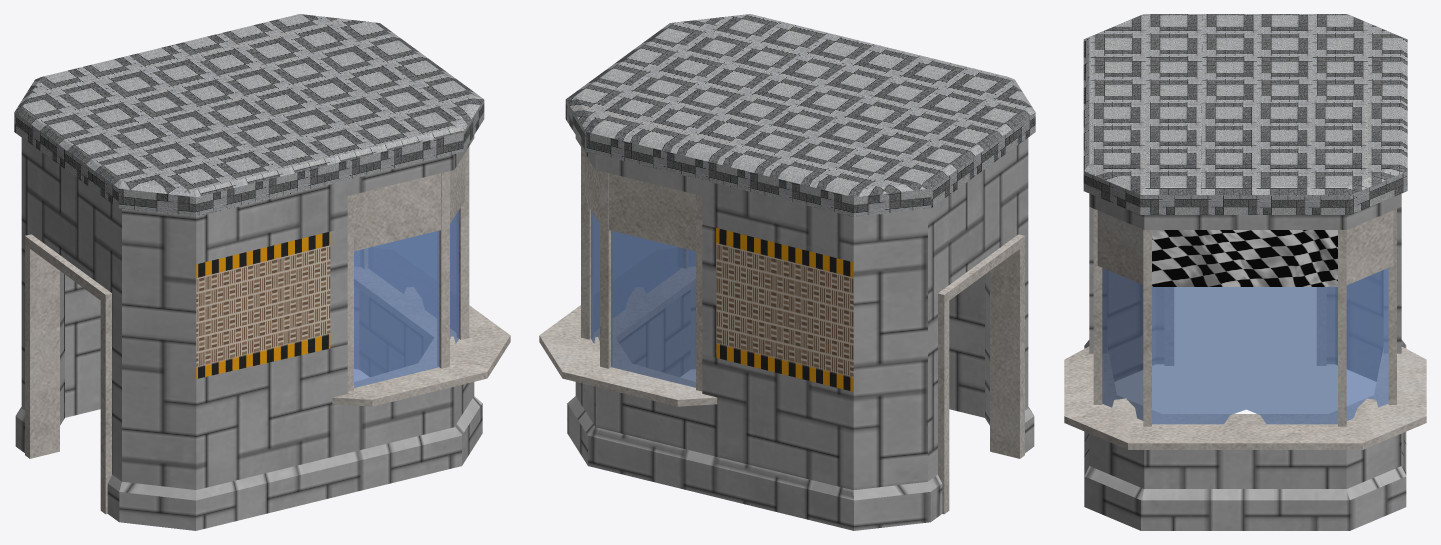
3 views of the same model, side by side, from view 1: azimuth 30°, elevation 25°; view 2: azimuth 150°, elevation 25°; view 3: azimuth 270°, elevation 25° (orthographic).
Visible parts, largest first — view 1: TicketBooth_0, TicketBooth_3, TicketBooth_2, TicketBooth_1; view 2: TicketBooth_0, TicketBooth_3, TicketBooth_2, TicketBooth_1; view 3: TicketBooth_3, TicketBooth_0, TicketBooth_2, TicketBooth_1.
Boxes of the visible parts, <box> form: TicketBooth_0: <box>15,135,482,530</box>; TicketBooth_3: <box>14,14,484,216</box>; TicketBooth_2: <box>25,146,510,514</box>; TicketBooth_1: <box>354,210,459,387</box>; TicketBooth_0: <box>567,135,1034,530</box>; TicketBooth_3: <box>565,14,1035,216</box>; TicketBooth_2: <box>539,147,1024,514</box>; TicketBooth_1: <box>591,210,695,387</box>; TicketBooth_3: <box>1083,14,1407,214</box>; TicketBooth_0: <box>1084,193,1406,530</box>; TicketBooth_2: <box>1064,209,1426,449</box>; TicketBooth_1: <box>1102,268,1388,424</box>.
Size of the model in its own units: 407 by 340 by 328.
2 materials, 1 textured.
